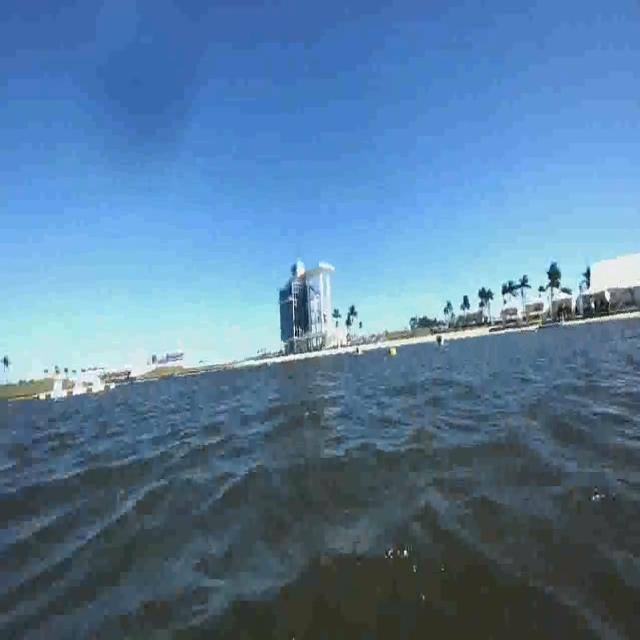yellow-buoy: (390, 346, 397, 358)
